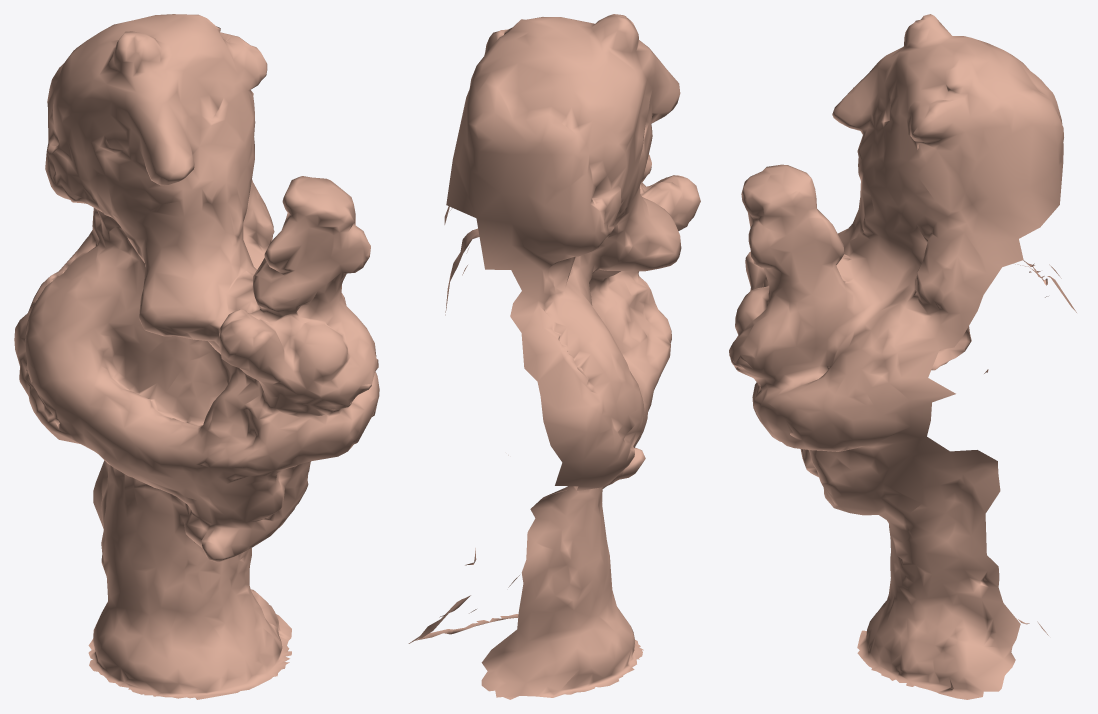
The model's file is wc-mahg-terracotta-man-holding-child.lod1.glb.
The picture shows the model from 3 angles, left to right: view 1: azimuth 30°, elevation 25°; view 2: azimuth 150°, elevation 25°; view 3: azimuth 270°, elevation 25°; orthographic projection. The views are drawn at different scales.
Parts seen in each view (by area): view 1: wc-mahg-terracotta-man-holding-child; view 2: wc-mahg-terracotta-man-holding-child; view 3: wc-mahg-terracotta-man-holding-child.
Part boxes in pixels (left/top/right/bottom): wc-mahg-terracotta-man-holding-child: left=14, top=14, right=379, bottom=699; wc-mahg-terracotta-man-holding-child: left=408, top=14, right=700, bottom=699; wc-mahg-terracotta-man-holding-child: left=729, top=14, right=1076, bottom=699.
Size of the model in its own units: 0.0877 by 0.2199 by 0.1173.
